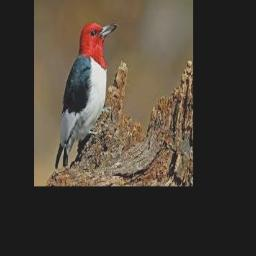Woodpecker: (55, 22, 117, 170)
